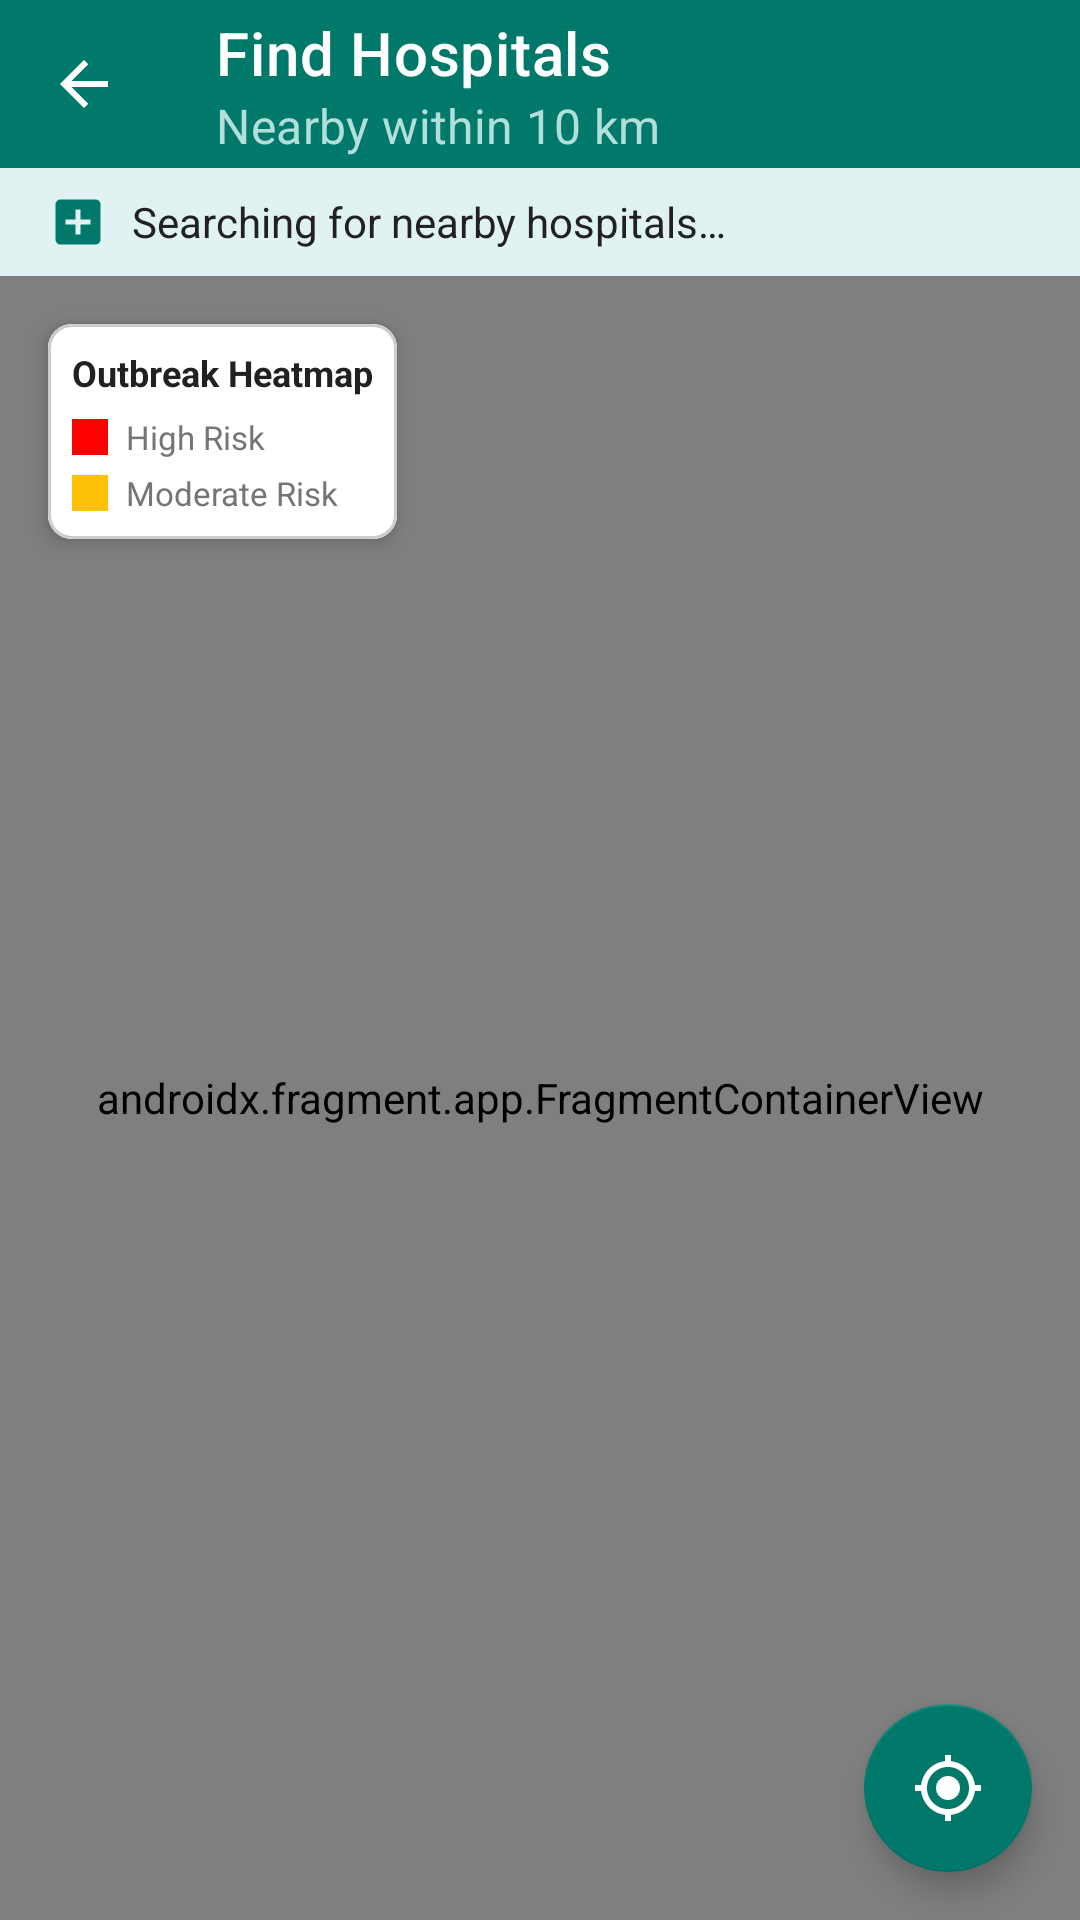

Icons on this 1080w x 1920h Android screen, each with the point to tap as [x,y]:
Center on my location: [948,1788]
